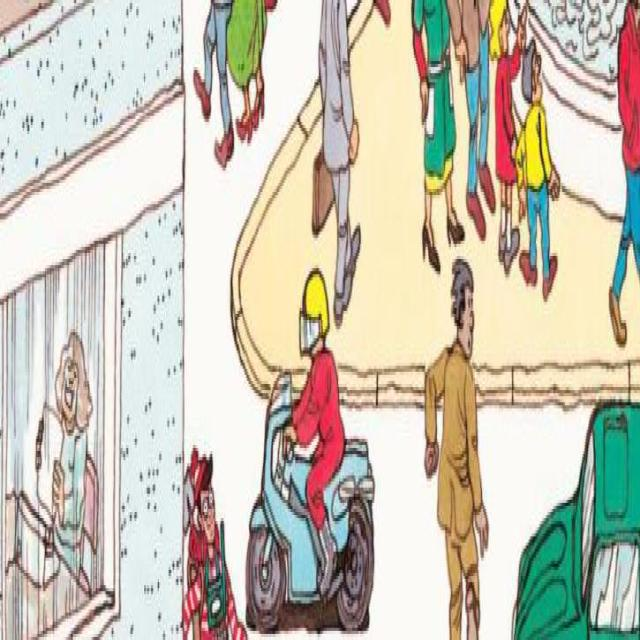waldo: (190, 445, 215, 542)
